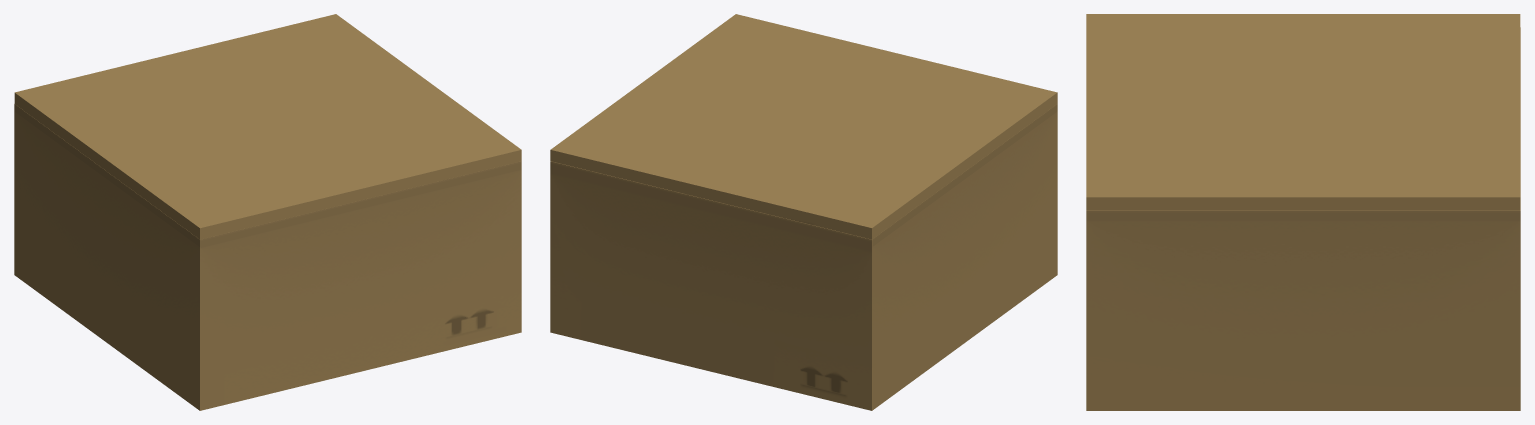
Rendered from empty_box (2).fbx.
The picture shows the model from 3 angles, left to right: view 1: azimuth 30°, elevation 25°; view 2: azimuth 150°, elevation 25°; view 3: azimuth 270°, elevation 25°; orthographic projection. The views are drawn at different scales.
Visible parts, largest first — view 1: pCube6, Cube, Cube.001; view 2: pCube6, Cube, Cube.001; view 3: pCube6, Cube.001, Cube.
Part boxes in pixels (box(x1,y1,x2,y2)): pCube6: box(14, 104, 521, 410); Cube: box(14, 53, 360, 239); Cube.001: box(176, 14, 521, 200); pCube6: box(550, 104, 1057, 410); Cube: box(711, 53, 1057, 239); Cube.001: box(550, 14, 896, 200); pCube6: box(1086, 27, 1520, 410); Cube.001: box(1086, 105, 1520, 210); Cube: box(1086, 14, 1520, 105).
Size of what is drawn, in the model's own units: 100 by 54.26 by 100.
